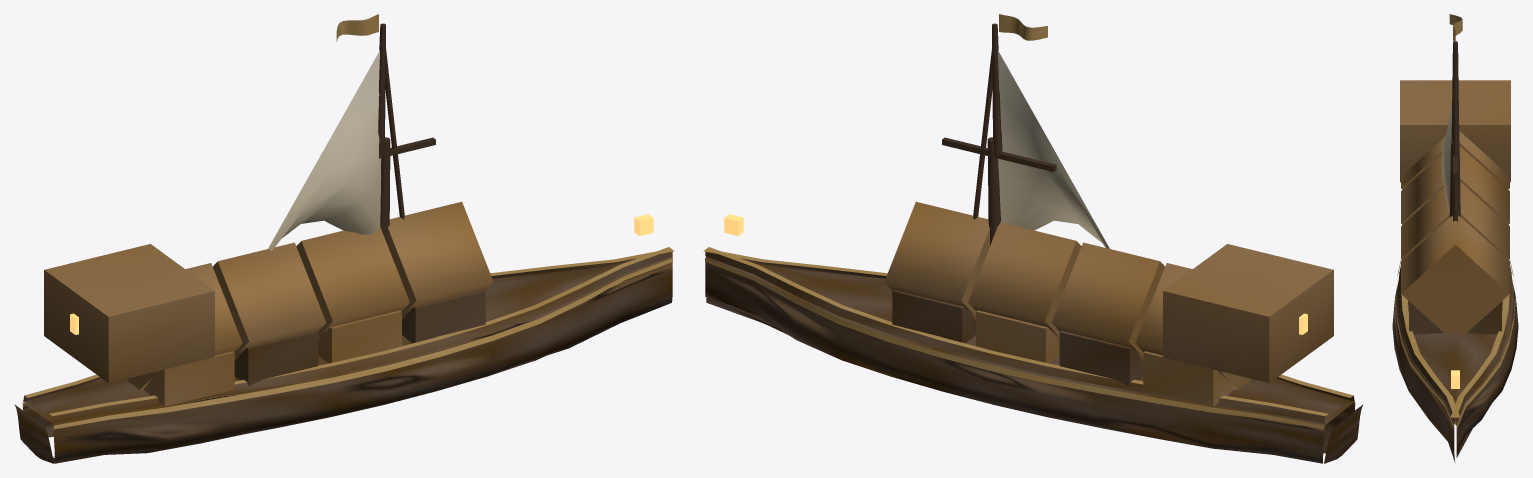
Rendered from garden-hero-carrack.glb.
3 renders of one model, left to right at view 1: azimuth 30°, elevation 25°; view 2: azimuth 150°, elevation 25°; view 3: azimuth 270°, elevation 25°, orthographic. The views are drawn at different scales.
Visible parts, largest first — view 1: wood-hull, sail-hull, trim-hull, spar-hull; view 2: wood-hull, sail-hull, spar-hull, trim-hull; view 3: wood-hull, spar-hull, trim-hull, sail-hull, glow-hull.
Part boxes in pixels (x1,y1,x2,y2): wood-hull: (14,14,674,463); sail-hull: (268,50,381,251); trim-hull: (22,258,672,429); spar-hull: (378,23,435,245); wood-hull: (703,14,1363,463); sail-hull: (998,50,1109,248); spar-hull: (942,23,1056,245); trim-hull: (705,258,1355,429); wood-hull: (1392,14,1518,462); spar-hull: (1449,41,1460,221); trim-hull: (1395,259,1515,427); sail-hull: (1442,104,1451,211); glow-hull: (1451,370,1459,388).
Bounding box in the file's own units: 12.68 × 7.23 × 2.5.
